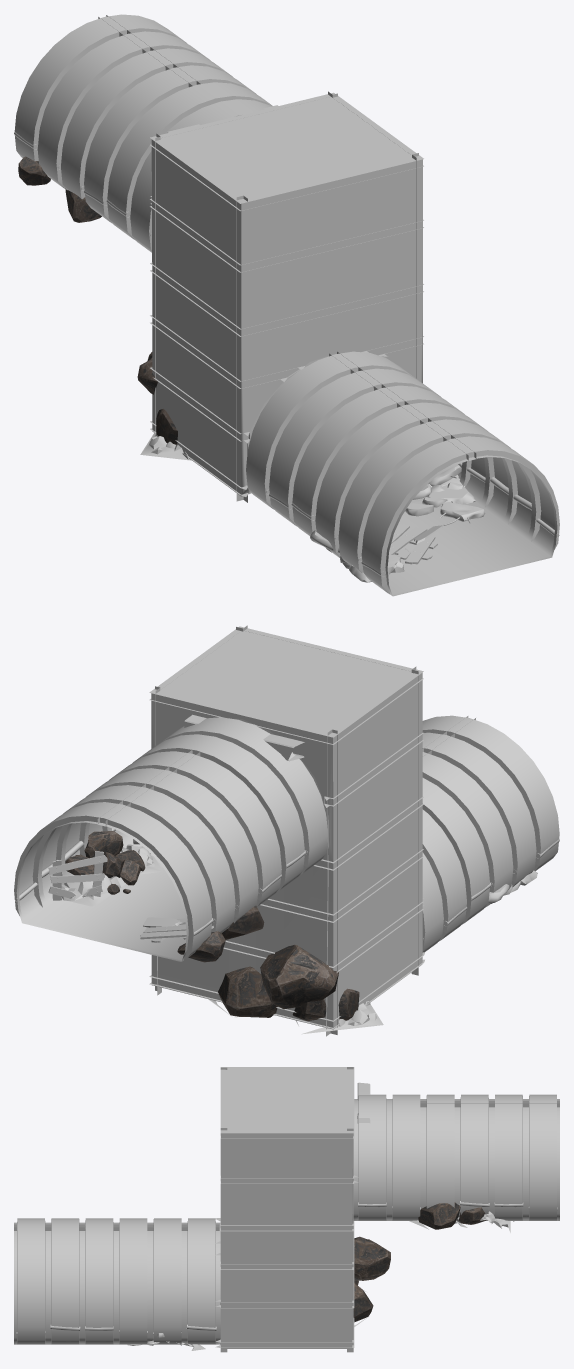
The model's file is VerticalShaft.DAE.
3 renders of one model, top to bottom at view 1: azimuth 30°, elevation 25°; view 2: azimuth 150°, elevation 25°; view 3: azimuth 270°, elevation 25°, orthographic. The views are drawn at different scales.
Parts seen in each view (by area): view 1: Shaft, Concrete, Rocks, Wood, RockPile; view 2: Shaft, Rocks, Wood, RockPile; view 3: Shaft, Rocks, RockPile.
Boxes of the visible parts, bbox=[...] form: Shaft: bbox=[14, 14, 559, 596]; Concrete: bbox=[310, 464, 484, 582]; Rocks: bbox=[18, 156, 177, 444]; Wood: bbox=[167, 105, 442, 564]; RockPile: bbox=[140, 433, 468, 503]; Shaft: bbox=[14, 625, 559, 1036]; Rocks: bbox=[65, 831, 359, 1021]; Wood: bbox=[48, 714, 305, 942]; RockPile: bbox=[61, 844, 383, 1034]; Shaft: bbox=[14, 1067, 559, 1352]; Rocks: bbox=[353, 1202, 485, 1322]; RockPile: bbox=[147, 1211, 510, 1350].
Bounding box in the file's own units: 734 × 2000 × 907.
